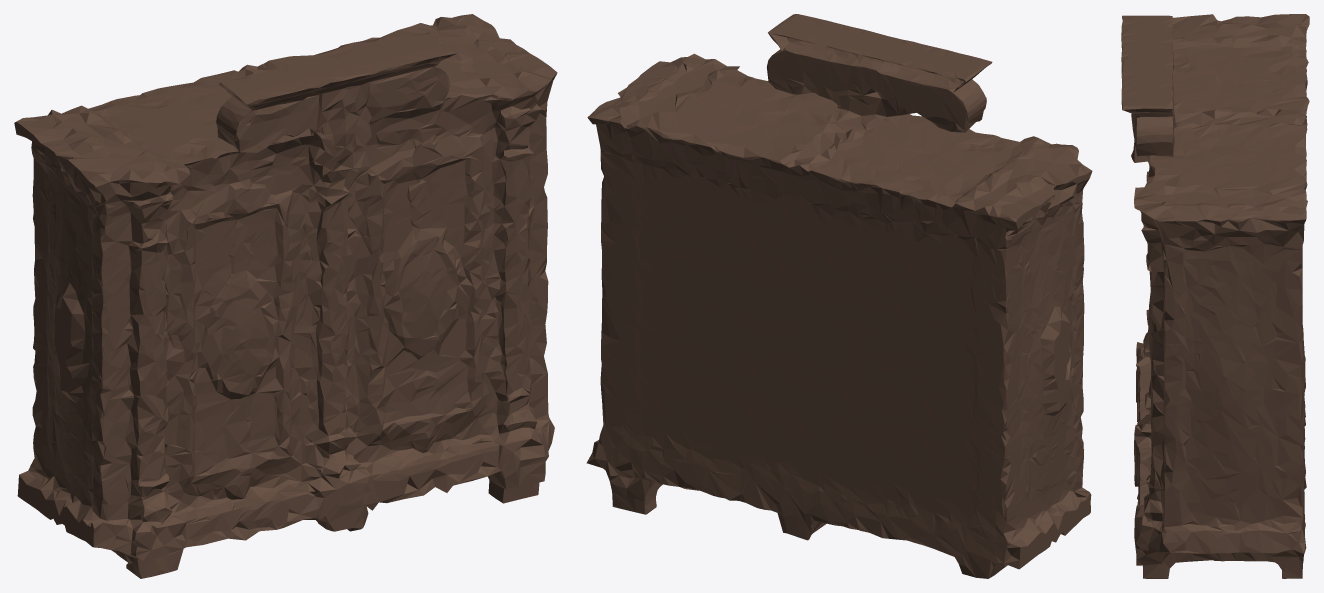
Rendered from triposg_v6.glb.
The picture shows the model from 3 angles, left to right: view 1: azimuth 30°, elevation 25°; view 2: azimuth 150°, elevation 25°; view 3: azimuth 270°, elevation 25°; orthographic projection. The views are drawn at different scales.
Visible parts, largest first — view 1: world; view 2: world; view 3: world.
Part boxes in pixels (<box>): world: <box>14,14,557,578</box>; world: <box>586,14,1092,578</box>; world: <box>1121,14,1309,578</box>.
Bounding box in the file's own units: 1.86 × 1.83 × 0.7281.
